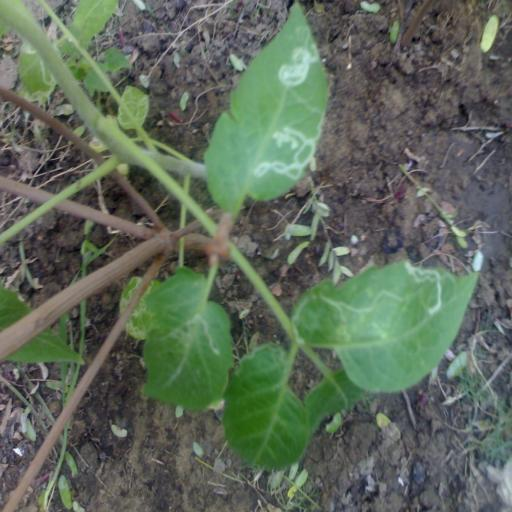Leaf Miner: (288, 253, 479, 397), (200, 0, 328, 213)
